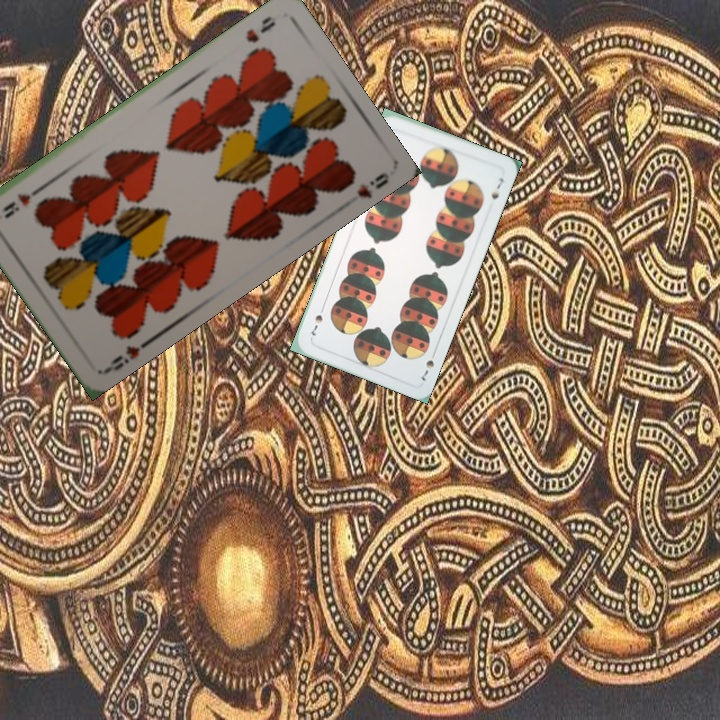H9: (102, 335, 154, 375), (241, 12, 278, 46)
S7: (417, 346, 439, 384)
